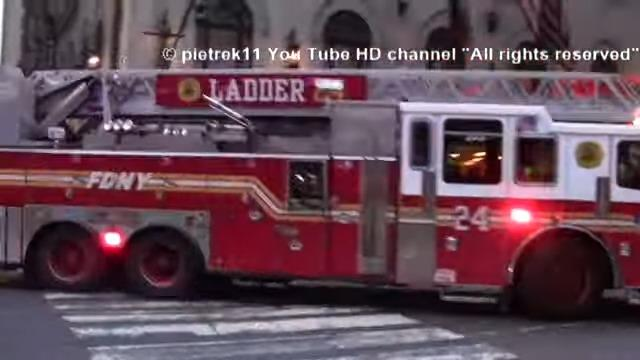Fire-engine: (0, 63, 639, 317)
